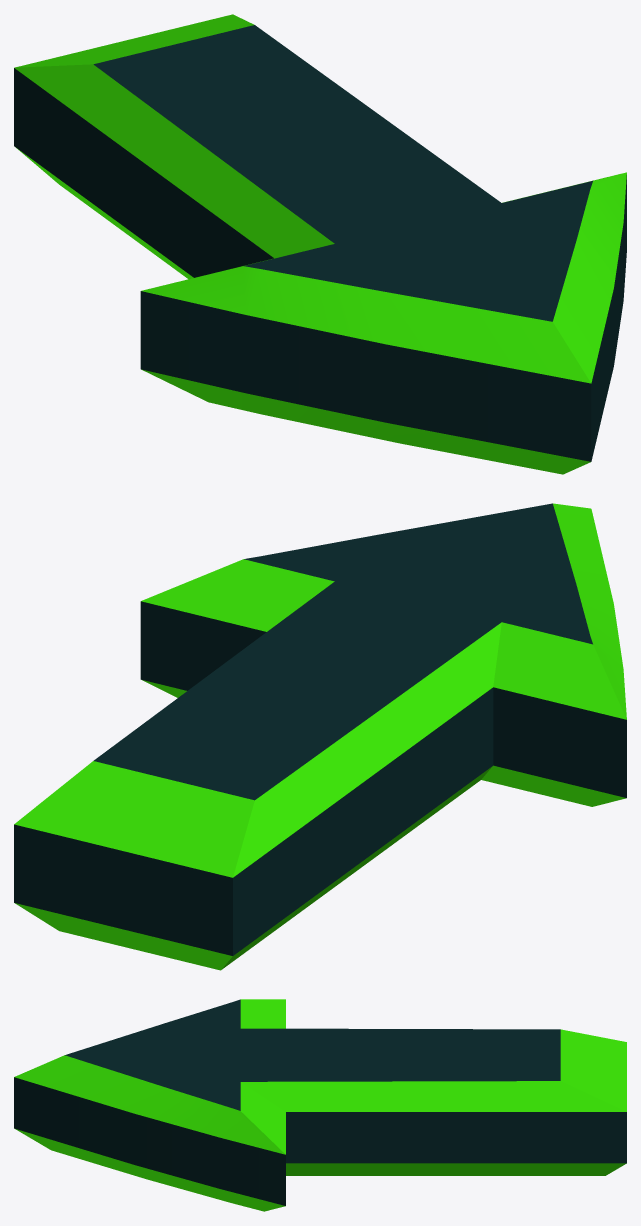
The model's file is yajirusi.fbx.
3 views of the same model, one above another, from view 1: azimuth 30°, elevation 25°; view 2: azimuth 150°, elevation 25°; view 3: azimuth 270°, elevation 25° (orthographic). The views are drawn at different scales.
Parts seen in each view (by area): view 1: yajirusai:pCube1; view 2: yajirusai:pCube1; view 3: yajirusai:pCube1.
Boxes of the visible parts, x1,y1,x2,y2 form: yajirusai:pCube1: (14,14,626,474); yajirusai:pCube1: (14,503,626,970); yajirusai:pCube1: (14,999,626,1211).
Size of the model in its own units: 20.8 by 5.94 by 34.67.
